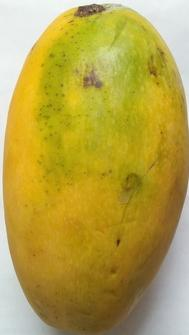Ripe: (1, 1, 189, 335)
